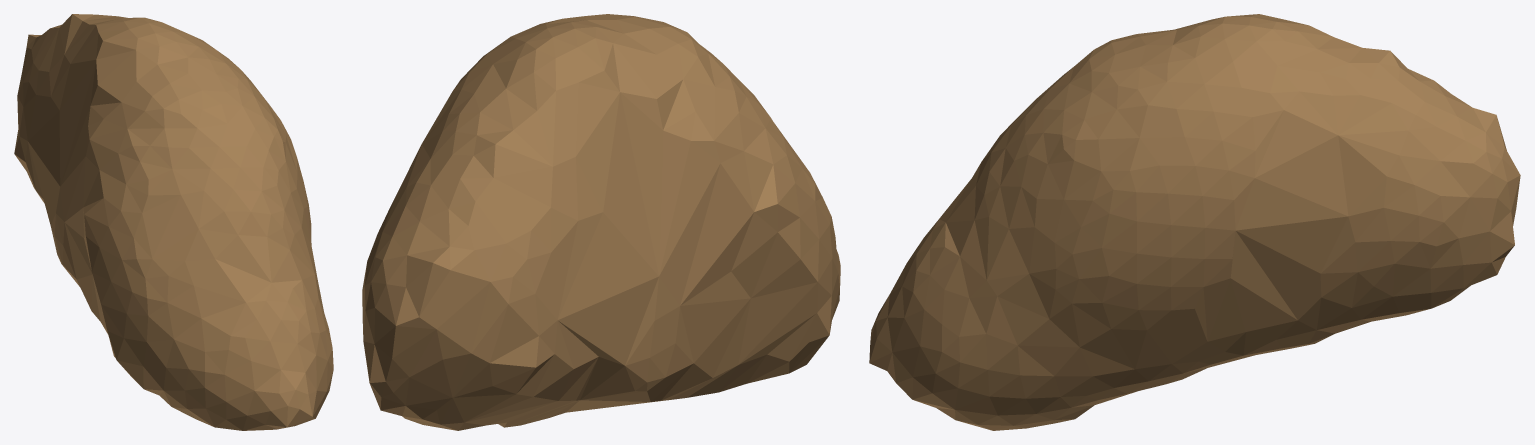
Rendered from Model_10481_LH__Intermediate_nucleus_of_the_lateral_lemniscus_(ILL).obj.
3 renders of one model, left to right at view 1: azimuth 30°, elevation 25°; view 2: azimuth 150°, elevation 25°; view 3: azimuth 270°, elevation 25°, orthographic. The views are drawn at different scales.
Size of the model in its own units: 0.8074 by 1.16 by 1.75.
